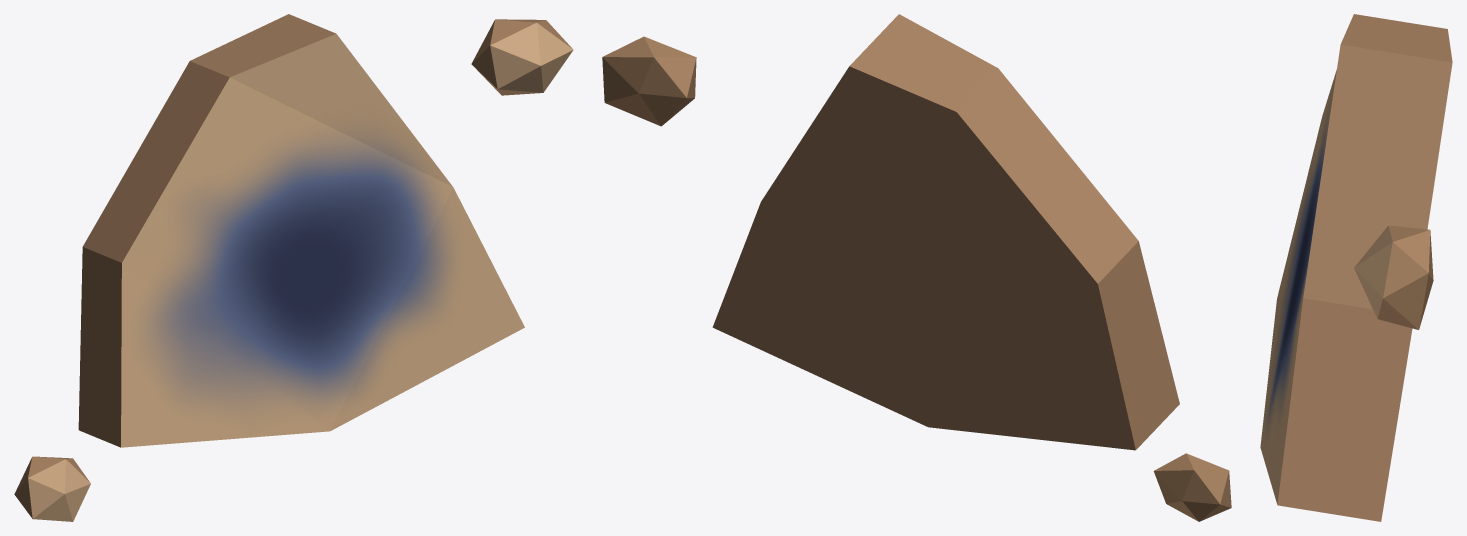
The model's file is oxido-de-manganes.glb.
The picture shows the model from 3 angles, left to right: view 1: azimuth 30°, elevation 25°; view 2: azimuth 150°, elevation 25°; view 3: azimuth 270°, elevation 25°; orthographic projection. The views are drawn at different scales.
Visible parts, largest first — view 1: oxido-de-manganes; view 2: oxido-de-manganes; view 3: oxido-de-manganes.
Boxes of the visible parts, x1=… form: oxido-de-manganes: x1=14, y1=14, x2=573, y2=521; oxido-de-manganes: x1=602, y1=14, x2=1231, y2=521; oxido-de-manganes: x1=1260, y1=14, x2=1452, y2=521.
Bounding box in the file's own units: 1.1 × 0.7654 × 0.2733.
Materials: 3 (1 with a texture image).
